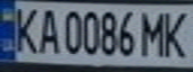0: (78, 7, 100, 56), (60, 7, 81, 55)
6: (115, 7, 139, 57)
8: (100, 8, 121, 57)
A: (33, 4, 60, 55)
K: (160, 7, 193, 60), (9, 3, 42, 54)
M: (136, 7, 172, 57)
